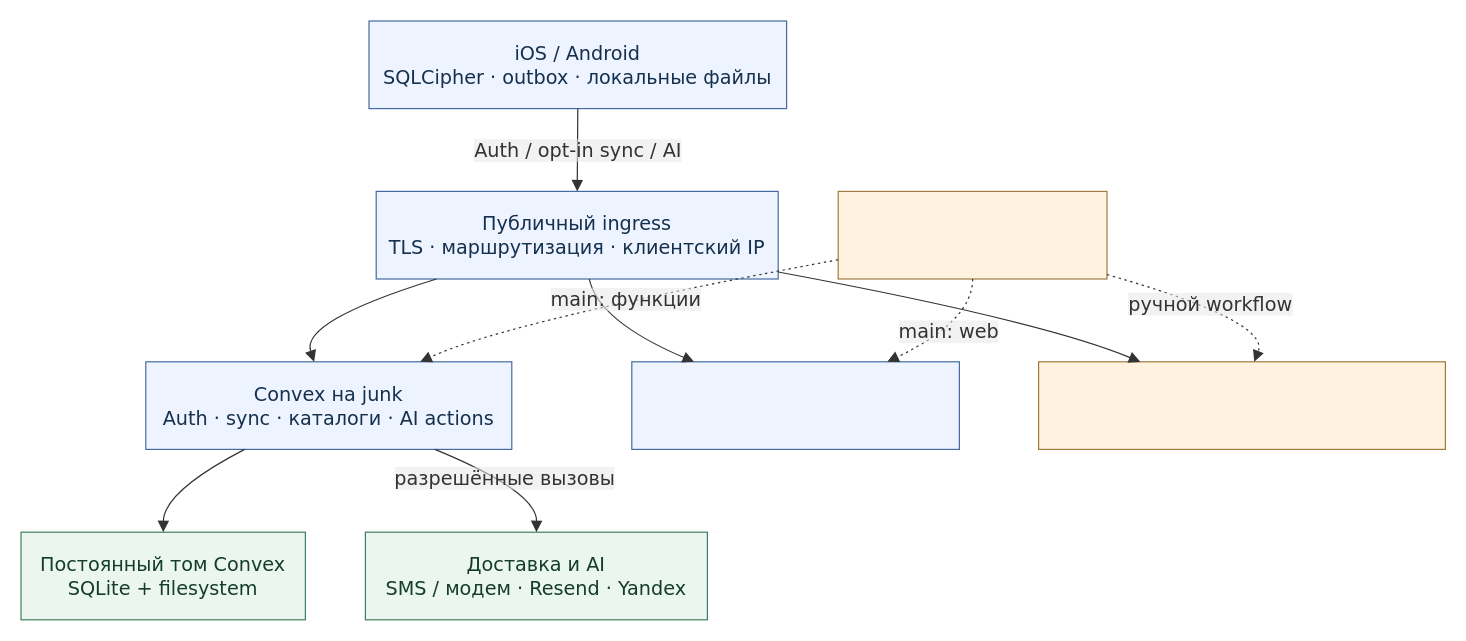
This 1466x641 diagram has some shape labels left out. Here are the shapes that lost their labels. From the top down, the centre of each, then its label:
At pixel 972 234: "GitHub Actions + GHCR deploy + Watchtower".
At pixel 795 405: "Web на junk админка + публичная /beta/".
At pixel 1241 405: "OTA на junk подписанные обновления по каналам".
